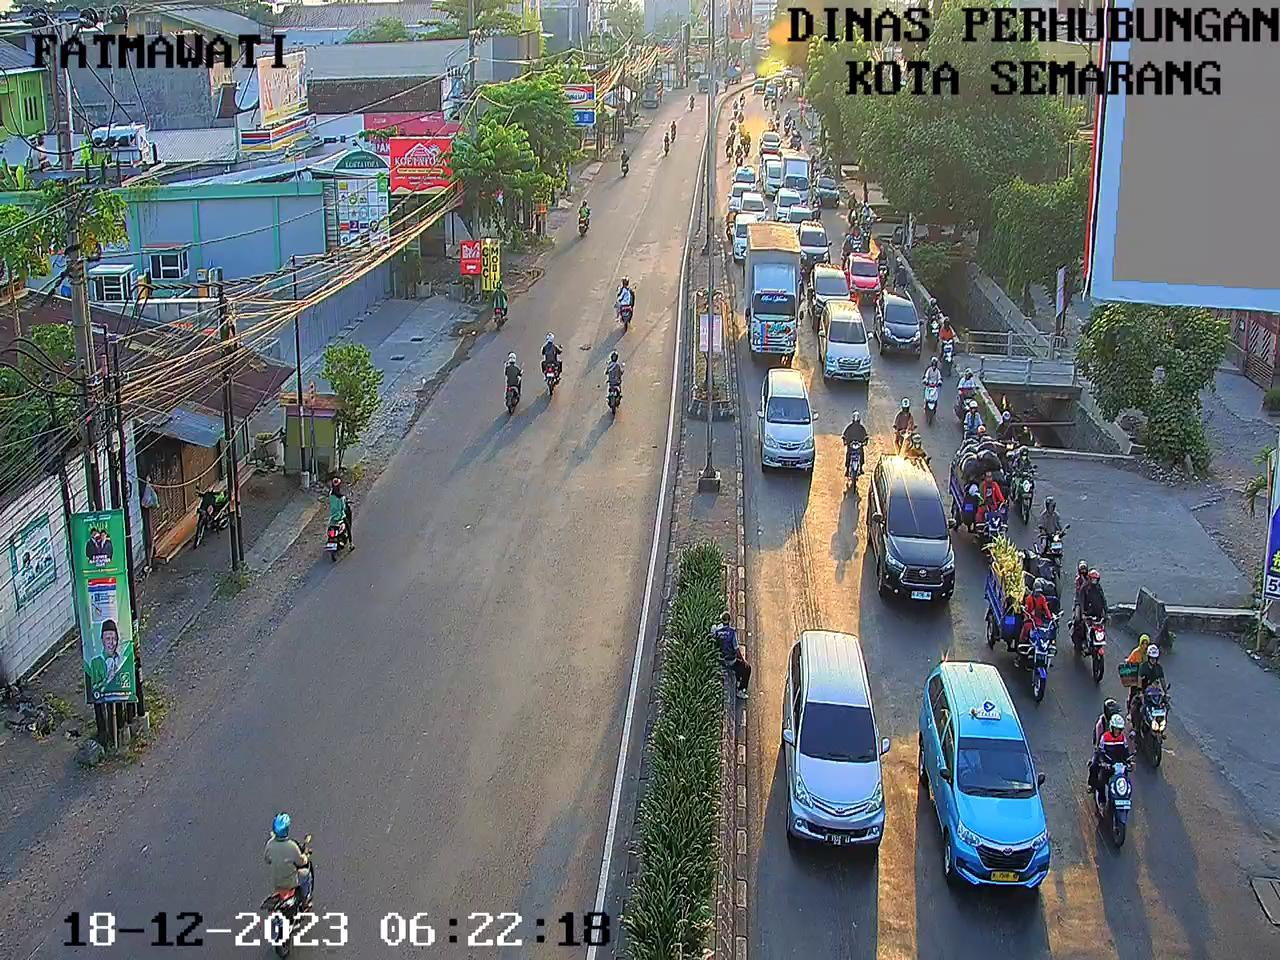car: (912, 652, 1054, 907), (782, 625, 893, 859), (868, 450, 959, 612), (758, 367, 820, 483), (815, 299, 874, 389), (872, 286, 926, 362), (807, 263, 854, 318), (845, 249, 886, 308), (801, 220, 835, 270), (725, 181, 763, 216), (734, 212, 762, 258), (778, 187, 805, 229), (763, 151, 786, 198), (818, 176, 845, 212), (790, 203, 819, 233), (743, 193, 770, 221), (761, 131, 787, 156), (728, 167, 761, 185), (757, 77, 772, 99), (773, 67, 788, 82)
motorcycle: (1120, 633, 1179, 773), (1090, 696, 1133, 847), (1073, 552, 1113, 688), (1023, 574, 1056, 707), (970, 471, 1012, 552), (1034, 498, 1067, 580), (842, 399, 866, 504), (1017, 447, 1041, 520), (954, 364, 983, 419), (922, 359, 943, 433), (996, 412, 1026, 464), (961, 403, 992, 449), (936, 316, 958, 372), (897, 397, 922, 447), (922, 293, 944, 349), (856, 194, 881, 237), (890, 251, 913, 288), (873, 241, 892, 283), (849, 217, 867, 254), (732, 139, 751, 171), (846, 188, 860, 226), (779, 110, 797, 139), (788, 132, 809, 156), (740, 128, 758, 153), (723, 132, 736, 166), (726, 197, 733, 244), (737, 107, 750, 128), (766, 110, 778, 130), (728, 113, 737, 139), (822, 164, 840, 177), (813, 152, 826, 169), (739, 92, 749, 113), (770, 97, 783, 113), (760, 92, 770, 111), (729, 99, 741, 113), (780, 82, 791, 97), (790, 78, 801, 92)
truck: (741, 218, 802, 361), (787, 158, 817, 203)
